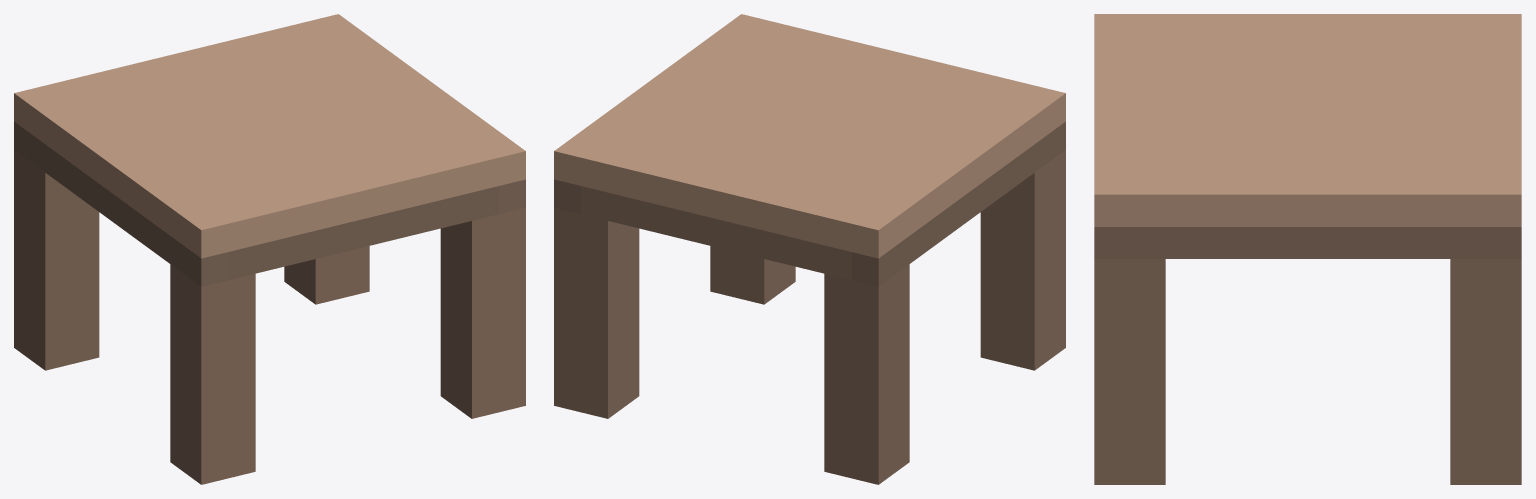
File: mesa_esmaltado_desgastada_01.glb
3 views of the same model, side by side, from view 1: azimuth 30°, elevation 25°; view 2: azimuth 150°, elevation 25°; view 3: azimuth 270°, elevation 25° (orthographic). The views are drawn at different scales.
Parts seen in each view (by area): view 1: mesa_esmaltado_desgastada; view 2: mesa_esmaltado_desgastada; view 3: mesa_esmaltado_desgastada.
Part boxes in pixels (x1,y1,x2,y2): mesa_esmaltado_desgastada: (14,14,525,484); mesa_esmaltado_desgastada: (554,14,1065,484); mesa_esmaltado_desgastada: (1094,14,1521,484).
Bounding box in the file's own units: 1 × 0.75 × 1.
